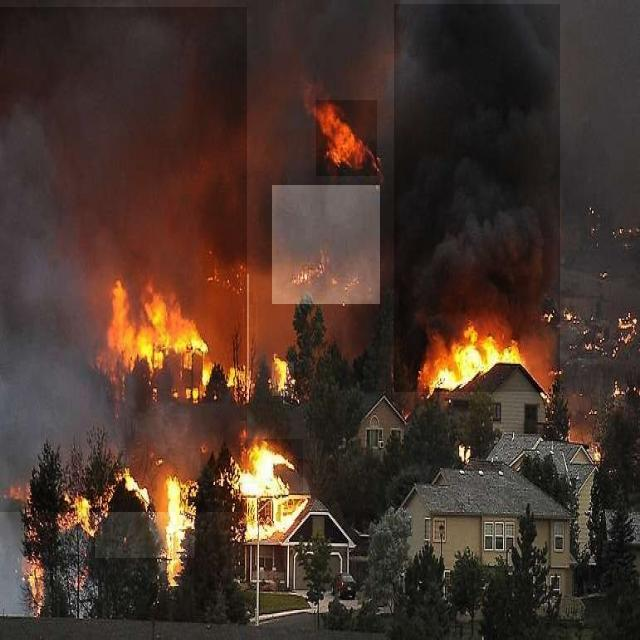Fire: (102, 274, 249, 403), (95, 459, 195, 558), (238, 439, 304, 521), (426, 332, 514, 387), (316, 100, 377, 176), (272, 362, 294, 397)
Smoke: (0, 7, 247, 512), (394, 4, 560, 392), (272, 185, 380, 304)
